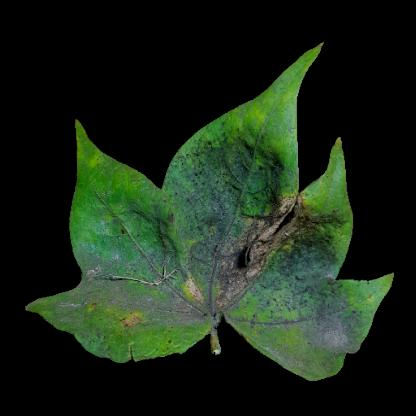curl_stage1: (80, 156, 134, 200), (251, 104, 297, 142), (94, 300, 142, 336), (234, 105, 270, 131), (188, 281, 210, 305)
sooty: (195, 154, 275, 329), (271, 232, 351, 348), (81, 262, 194, 318), (134, 208, 180, 255)
